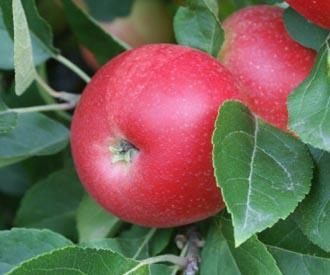apple: (68, 43, 252, 229), (217, 6, 315, 140)
